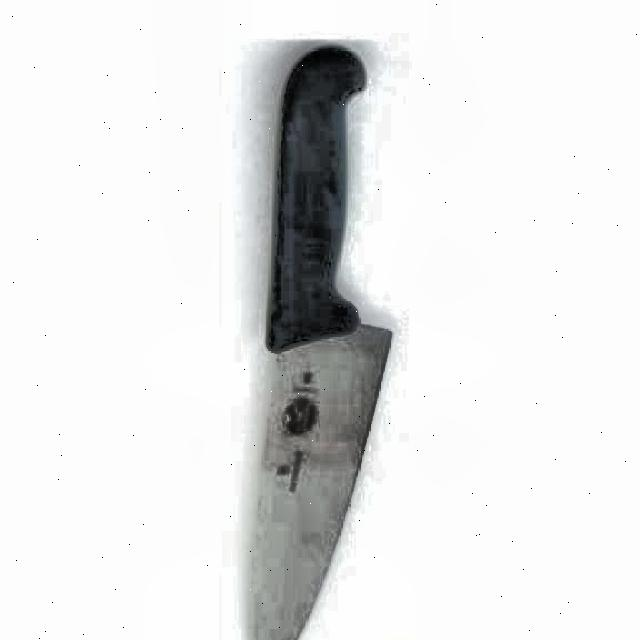knife: (242, 42, 392, 640)
